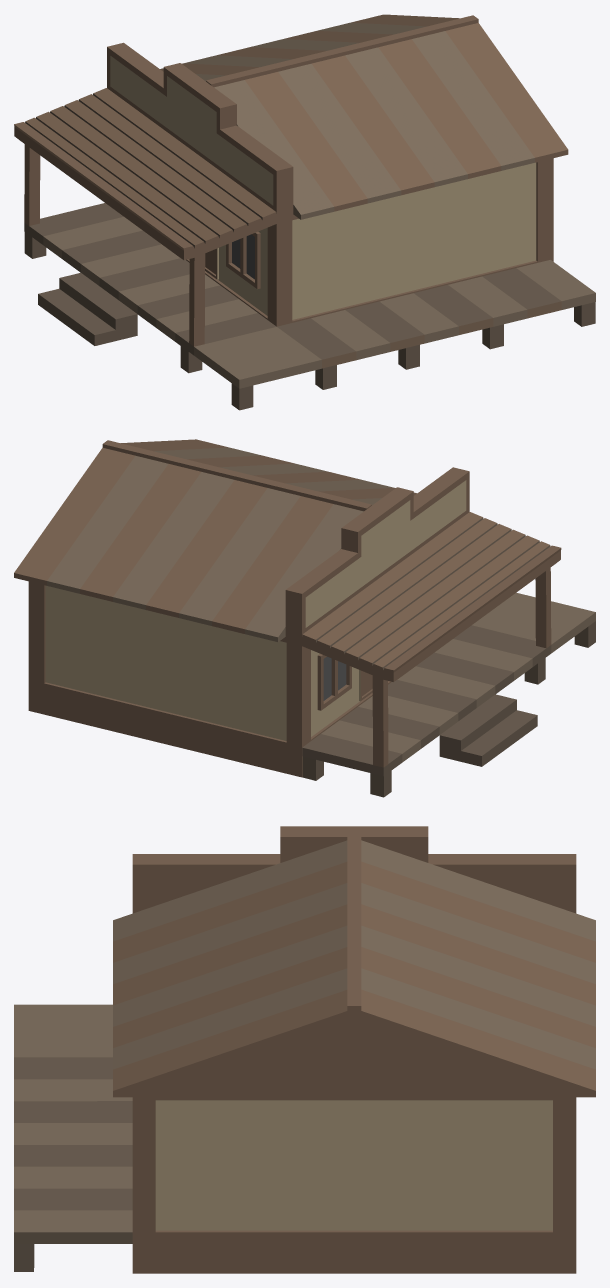
The model's file is booth_03.fbx.
3 renders of one model, top to bottom at view 1: azimuth 30°, elevation 25°; view 2: azimuth 150°, elevation 25°; view 3: azimuth 270°, elevation 25°, orthographic. The views are drawn at different scales.
Parts seen in each view (by area): view 1: booth_03; view 2: booth_03; view 3: booth_03.
Boxes of the visible parts, x1,y1,x2,y2 form: booth_03: [14, 14, 595, 410]; booth_03: [14, 439, 595, 797]; booth_03: [14, 826, 595, 1273].
Bounding box in the file's own units: 9.78 × 9.2 × 4.76.
